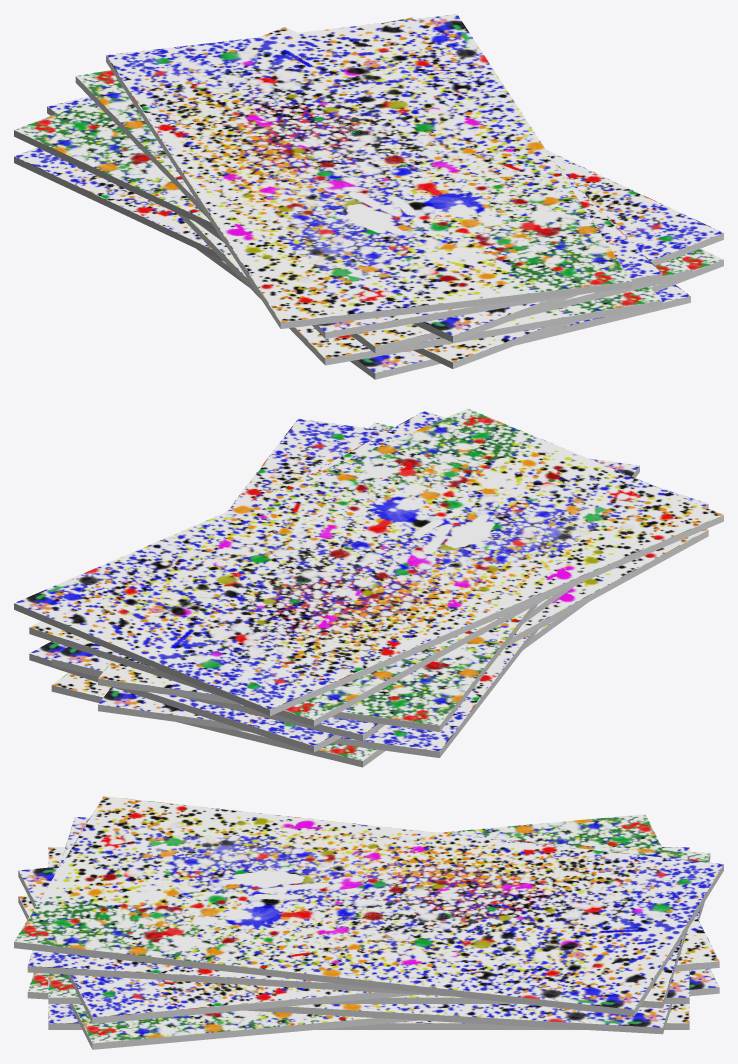
File: Paintboards.fbx
3 views of the same model, one above another, from view 1: azimuth 30°, elevation 25°; view 2: azimuth 150°, elevation 25°; view 3: azimuth 270°, elevation 25° (orthographic). The views are drawn at different scales.
Parts seen in each view (by area): view 1: Cube.049; view 2: Cube.049; view 3: Cube.049.
Boxes of the visible parts, x1,y1,x2,y2 form: Cube.049: (14, 14, 723, 379); Cube.049: (14, 408, 723, 767); Cube.049: (14, 796, 723, 1049).
Size of the model in its own units: 0.9968 by 0.7102 by 0.08.
